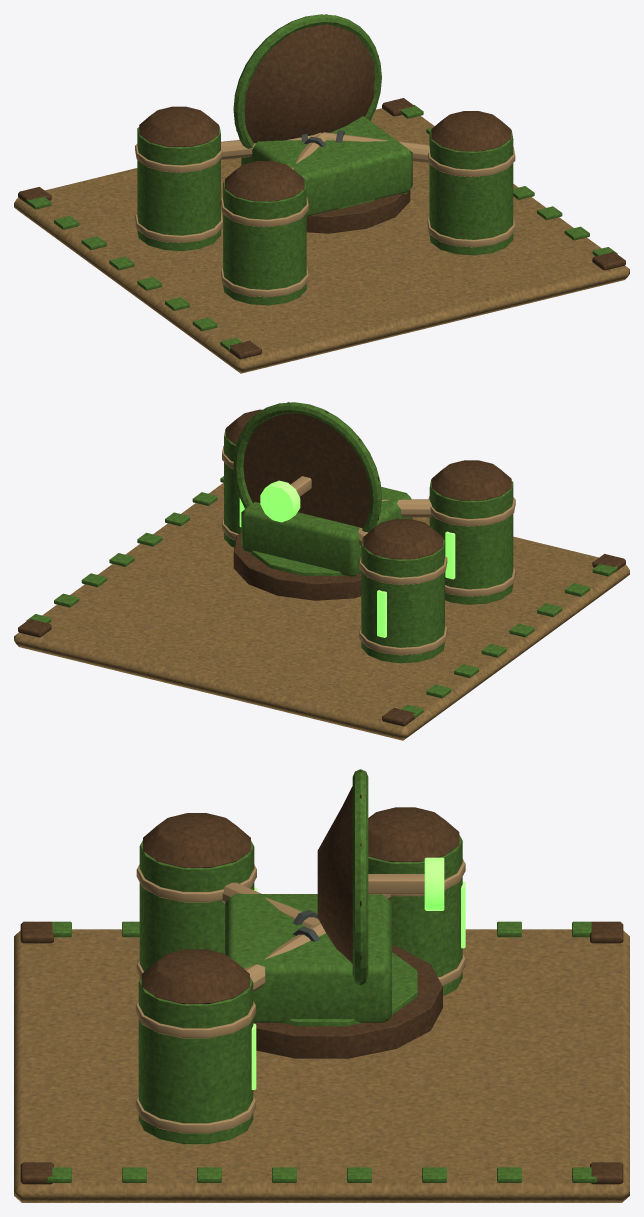
Rendered from vael_pluie_acide.gltf.
3 renders of one model, top to bottom at view 1: azimuth 30°, elevation 25°; view 2: azimuth 150°, elevation 25°; view 3: azimuth 270°, elevation 25°, orthographic. The views are drawn at different scales.
Parts seen in each view (by area): view 1: Root.018_Geometry, GunPitch.005_Geometry, TurretYaw.005_Geometry; view 2: Root.018_Geometry, GunPitch.005_Geometry, TurretYaw.005_Geometry; view 3: Root.018_Geometry, TurretYaw.005_Geometry, GunPitch.005_Geometry.
Part boxes in pixels (x1,y1,x2,y2): Root.018_Geometry: [14, 98, 629, 373]; GunPitch.005_Geometry: [233, 14, 381, 148]; TurretYaw.005_Geometry: [241, 116, 412, 216]; Root.018_Geometry: [14, 409, 629, 740]; GunPitch.005_Geometry: [233, 402, 381, 532]; TurretYaw.005_Geometry: [241, 487, 412, 576]; Root.018_Geometry: [14, 807, 629, 1202]; TurretYaw.005_Geometry: [225, 894, 391, 1022]; GunPitch.005_Geometry: [317, 769, 444, 985].
Size of the model in its own units: 5.91 by 3.13 by 5.91.
Materials: 6 (3 with a texture image).
